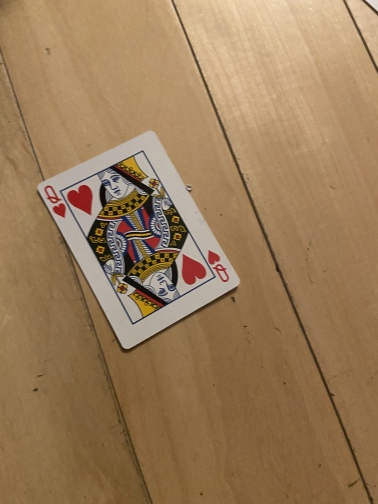queen: (35, 129, 242, 352)
